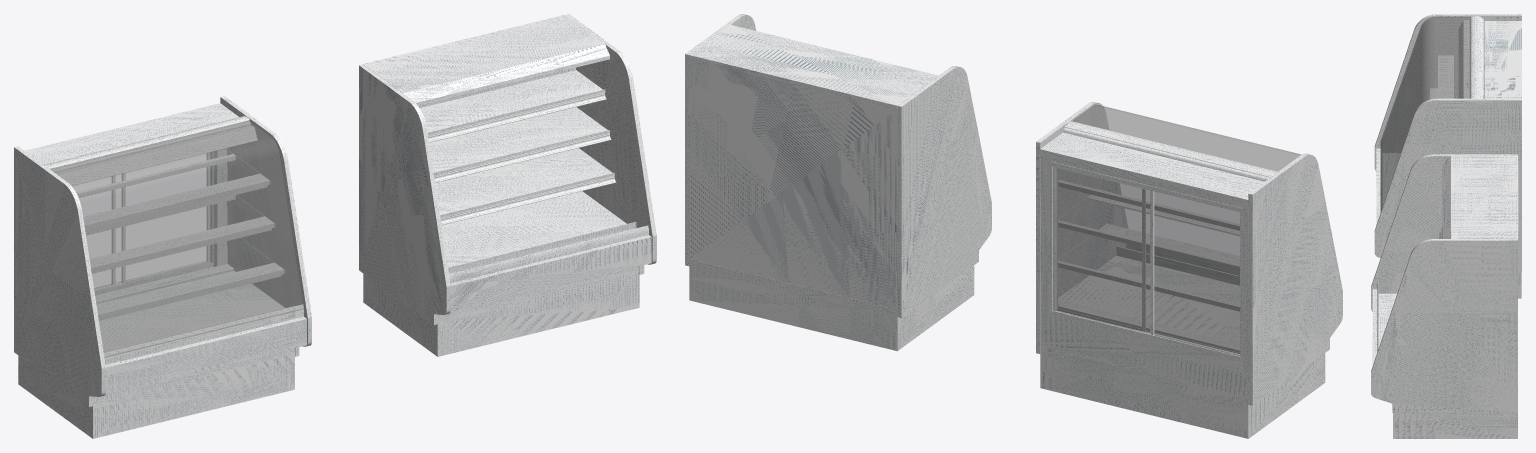
Rendered from heladera2.dae.
The picture shows the model from 3 angles, left to right: view 1: azimuth 30°, elevation 25°; view 2: azimuth 150°, elevation 25°; view 3: azimuth 270°, elevation 25°; orthographic projection. The views are drawn at different scales.
Parts seen in each view (by area): view 1: Group_11, Group_3, Group_10 (×2), Group_9 (×2), Group_15, Group_2, Group_14, Group_4, Group_8, Group_1, Group_16, Group_18 (+7 smaller); view 2: Group_3, Group_9 (×2), Group_10, Group_15, Group_24, Group_26, Group_2, Group_14, Group_11, Group_22 (×2), Group_13 (×2), Group_17 (+5 smaller); view 3: Group_4, Group_14, Group_3, Group_11, Group_15, Group_9, Group_10, Group_2, Group_13 (×2), Group_12, Group_16.
Boxes of the visible parts, x1,y1,x2,y2 form: Group_11: (50,120,304,357); Group_3: (363,15,651,321); Group_10 (×2): (25,103,612,403); Group_9 (×2): (18,64,450,438); Group_15: (14,146,105,406); Group_2: (363,272,639,356); Group_14: (220,96,311,356); Group_4: (566,14,656,274); Group_8: (429,107,607,172); Group_1: (420,70,602,132); Group_16: (76,149,270,231); Group_18: (85,195,275,273); Group_3: (689,24,938,309); Group_9 (×2): (897,66,1325,438); Group_10: (1040,132,1264,397); Group_15: (1248,153,1342,405); Group_24: (1055,168,1150,333); Group_26: (1154,192,1239,354); Group_2: (689,259,974,351); Group_14: (1036,101,1127,353); Group_11: (1072,104,1301,171); Group_22 (×2): (1051,161,1241,361); Group_13 (×2): (1063,121,1277,181); Group_17: (1058,223,1239,311); Group_4: (1371,239,1517,412); Group_14: (1374,98,1521,272); Group_3: (1372,156,1518,365); Group_11: (1380,17,1471,212); Group_15: (1374,14,1521,171); Group_9: (1371,154,1517,311); Group_10: (1376,21,1521,224); Group_2: (1393,413,1517,438); Group_13 (×2): (1469,16,1484,98); Group_12: (1459,20,1468,98); Group_16: (1436,55,1458,98).
Bounding box in the file's own units: 133 × 37.35 × 54.67.
